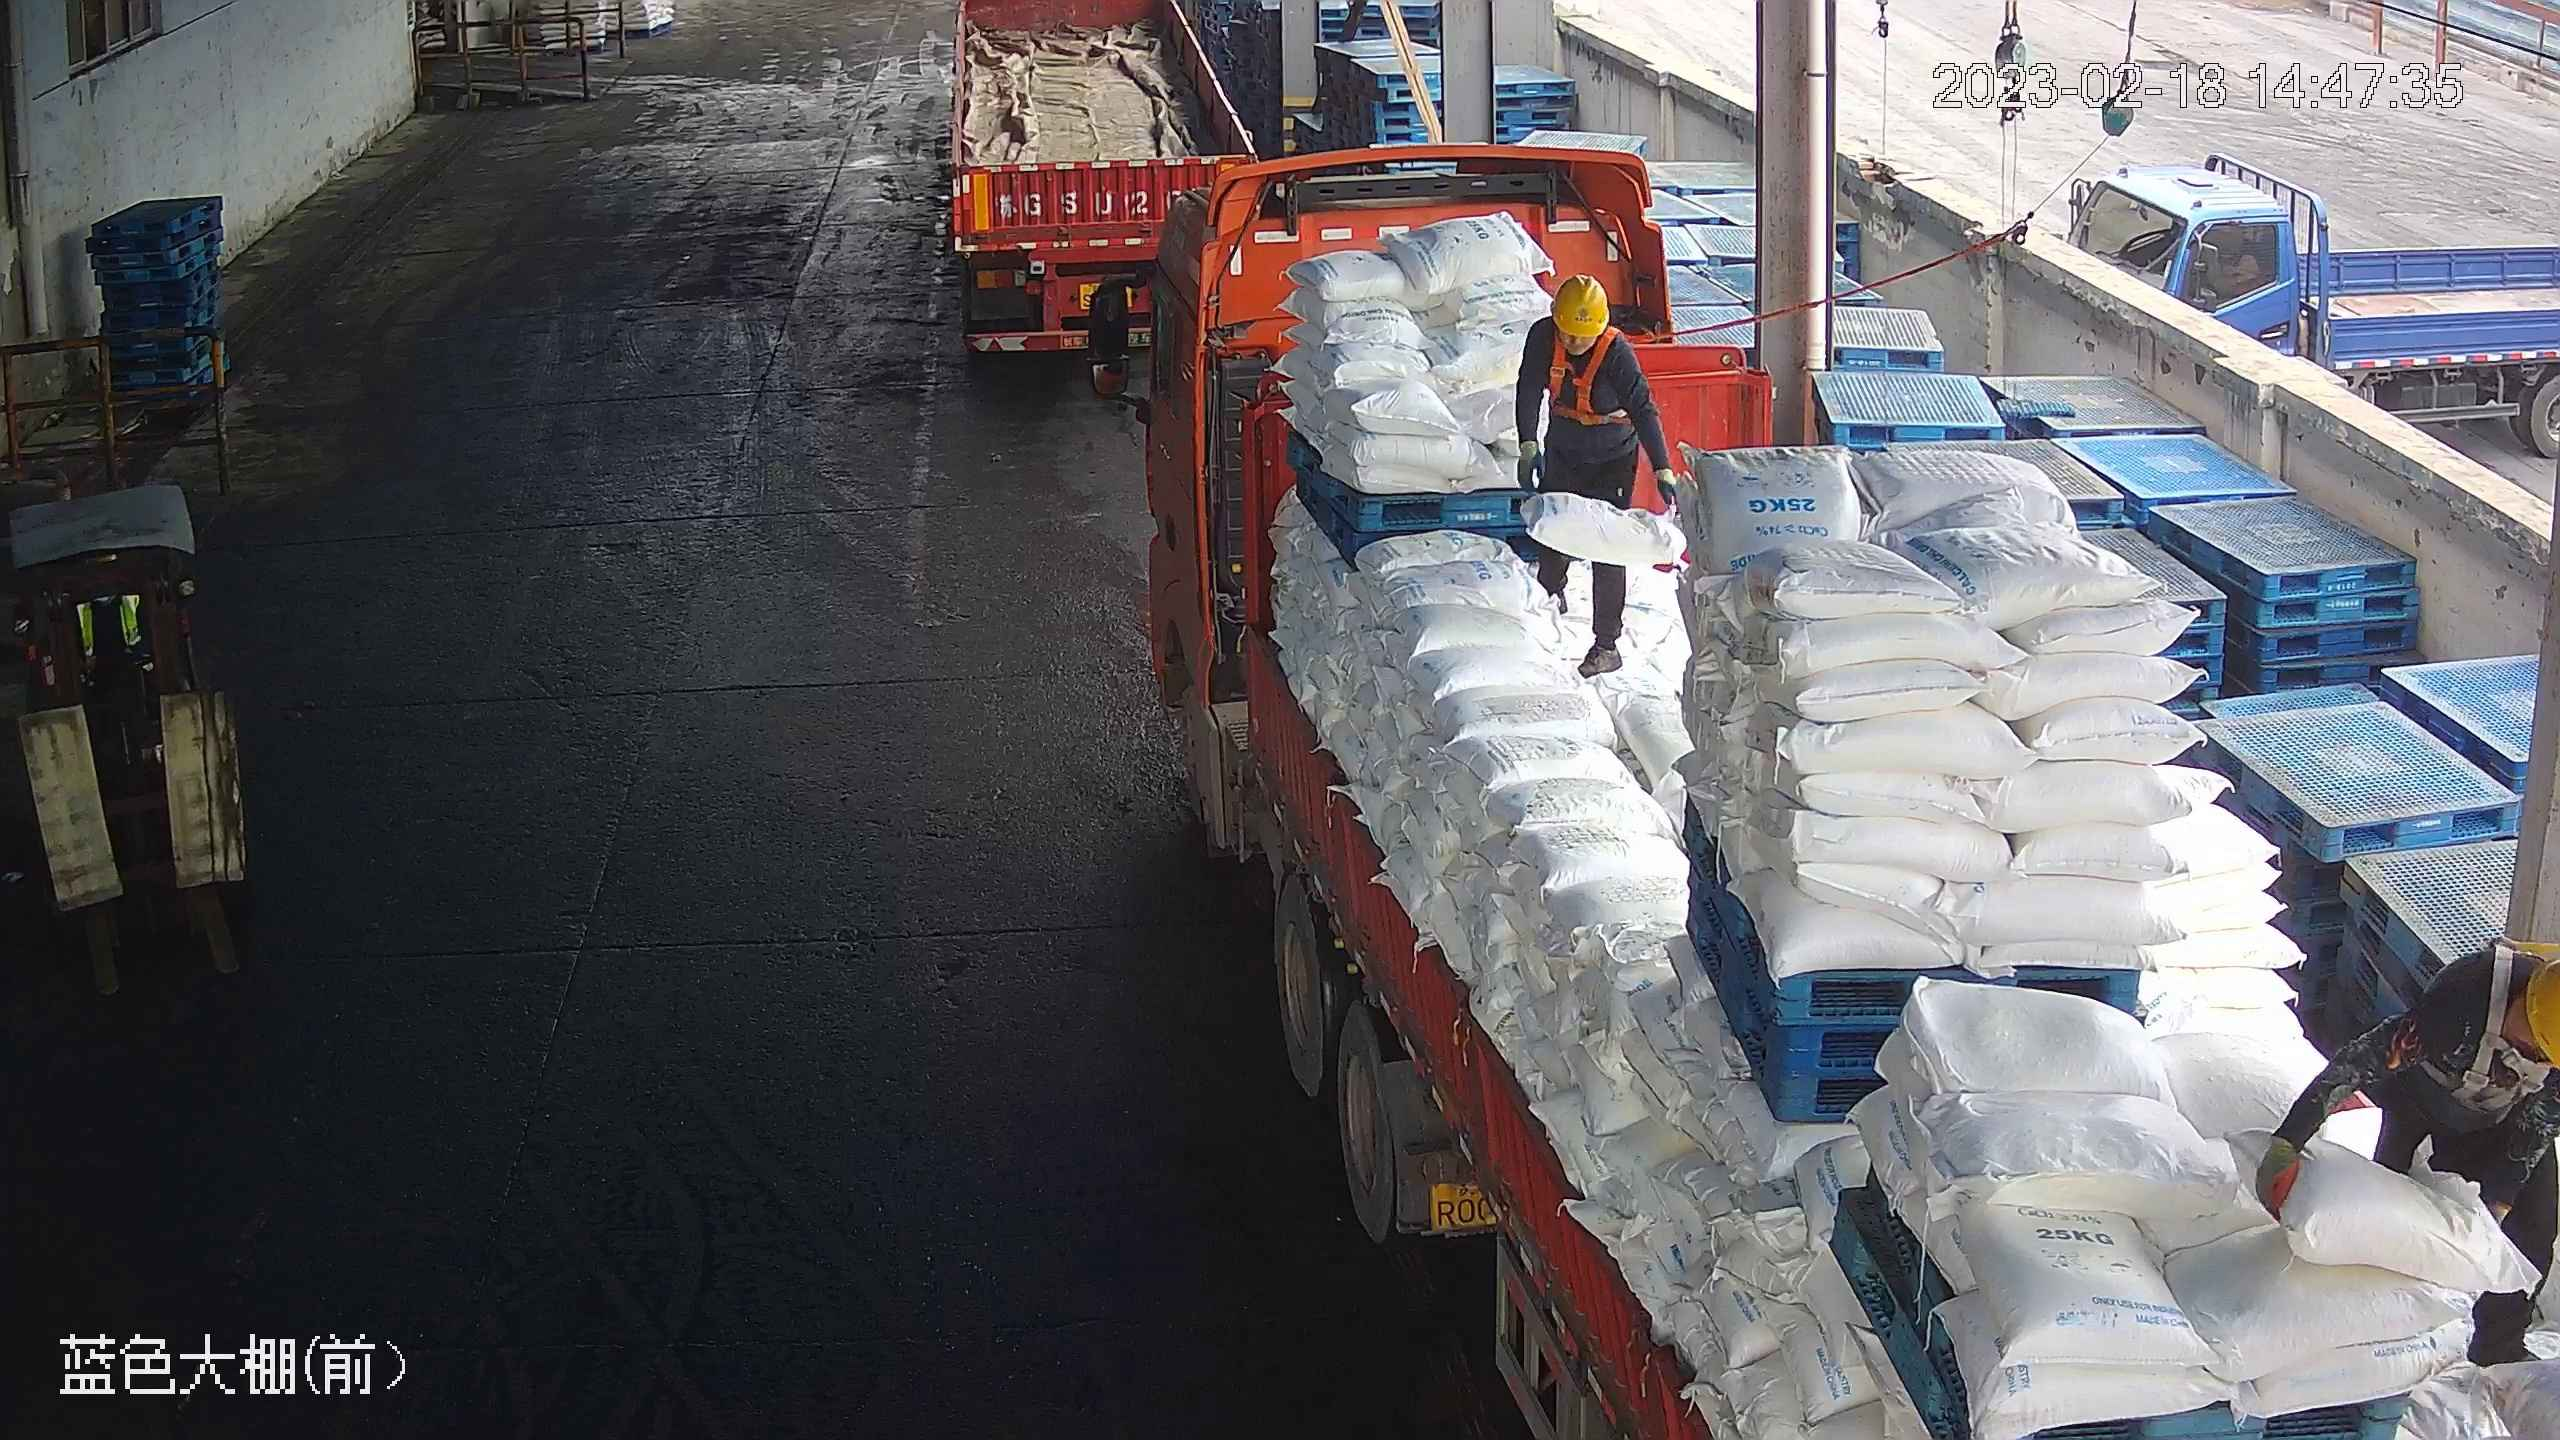belt: (2431, 953, 2551, 1108), (1545, 323, 1645, 425)
head: (2428, 942, 2560, 1102), (1520, 270, 1645, 378)
helmet: (1548, 271, 1612, 343), (2522, 955, 2560, 1073)
people: (2251, 934, 2559, 1372), (1510, 268, 1683, 673)
truck: (1085, 145, 2560, 1440), (947, 1, 1259, 355)
